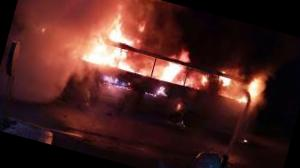Fire: (70, 4, 273, 118)
Smoke: (100, 0, 300, 94), (0, 0, 108, 111)
